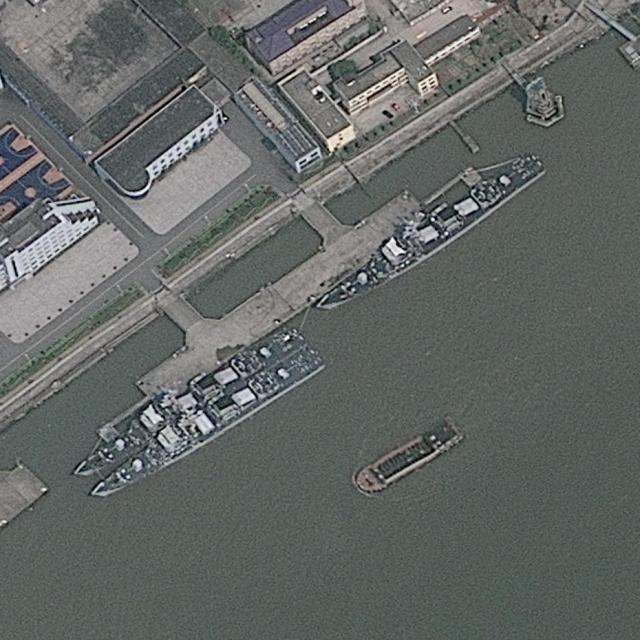Cargo: (348, 414, 467, 503)
Frigate: (311, 146, 549, 322), (86, 340, 324, 509), (67, 317, 306, 485)
